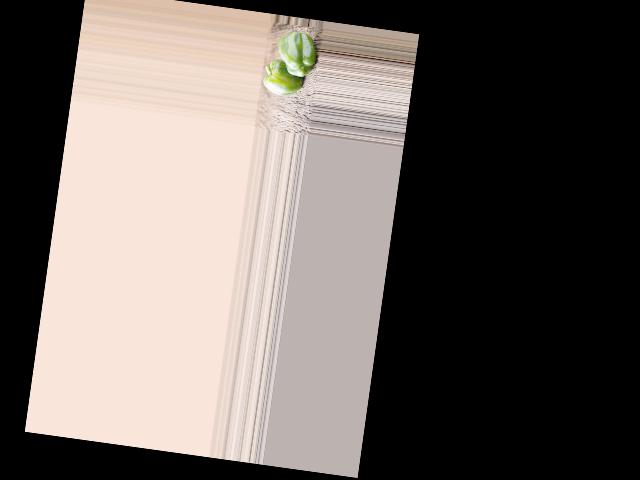bell_pepper: (273, 29, 317, 80)
